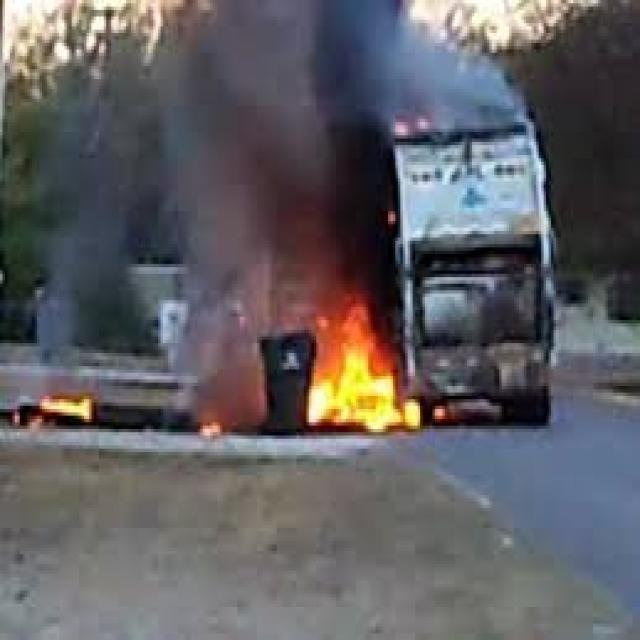Fire: (311, 350, 421, 436), (409, 0, 561, 47)
Smoke: (175, 4, 383, 197)
